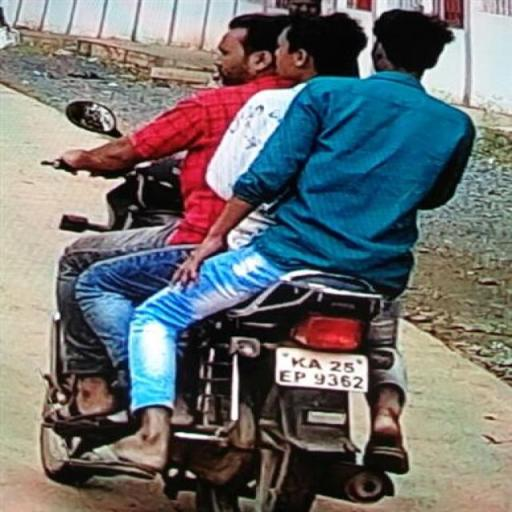tripple riding: (59, 4, 483, 259)
